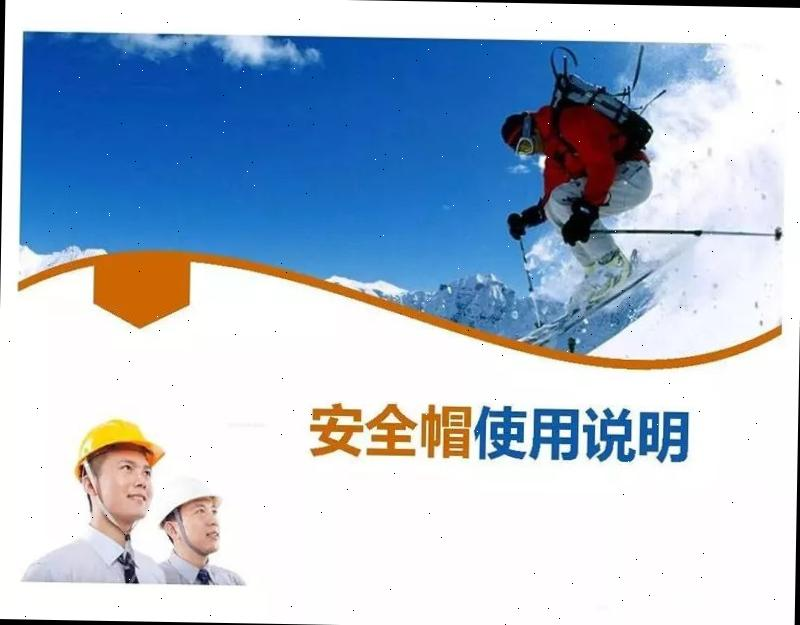helmet: (72, 415, 166, 469), (156, 473, 220, 526)
